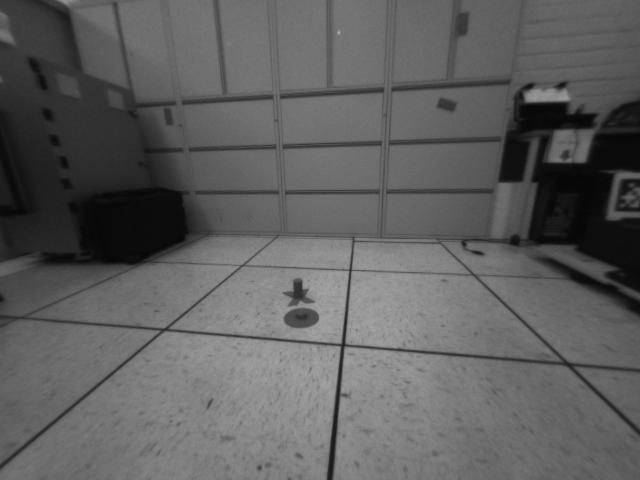X: (282, 278, 315, 307)
